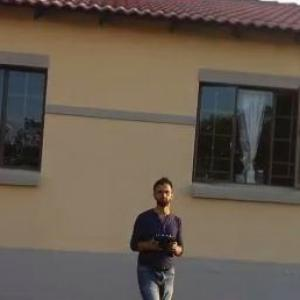follow: (122, 167, 186, 299)
